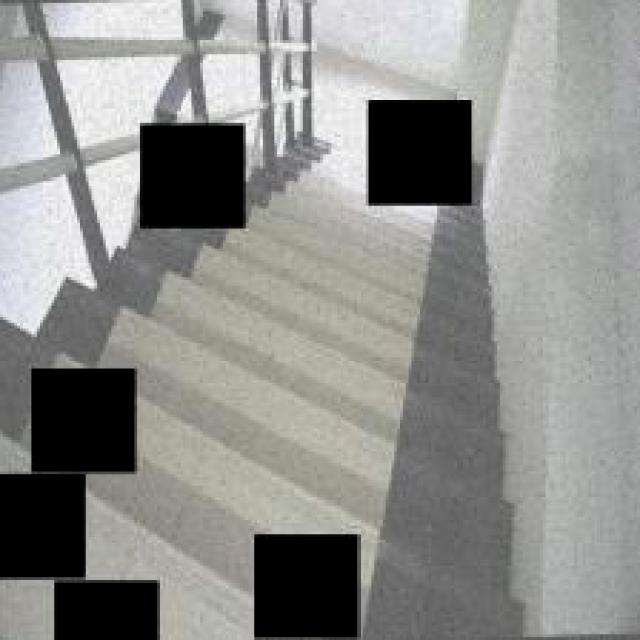downstair: (178, 249, 481, 504)
